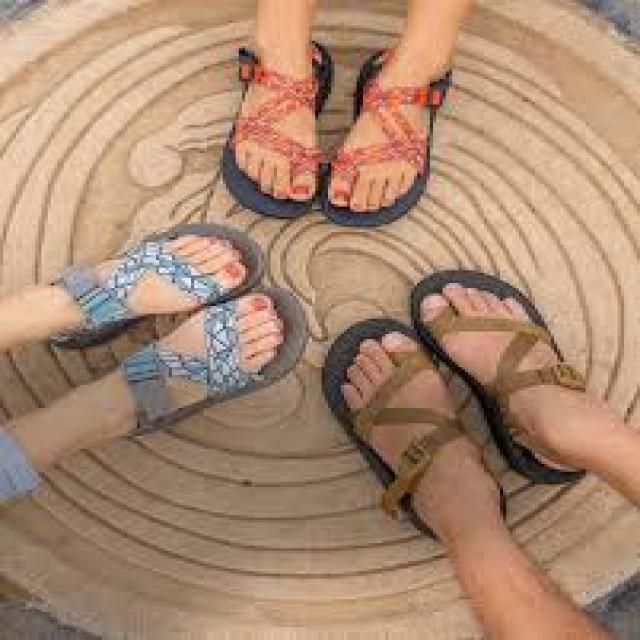No_Shoe: (12, 220, 302, 304), (328, 60, 456, 216), (222, 46, 326, 215)
